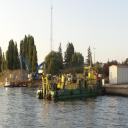tugboat: (37, 60, 105, 104)
